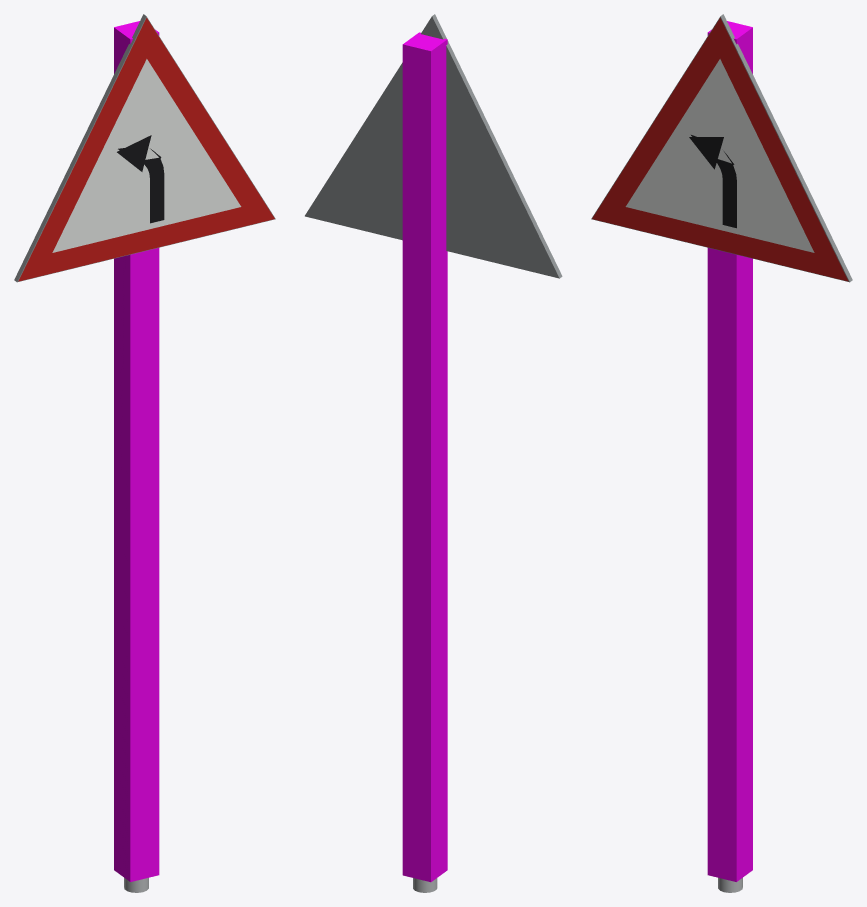
The model's file is EN_Sign_1_11_2_CurveLeft.fbx.
3 renders of one model, left to right at view 1: azimuth 30°, elevation 25°; view 2: azimuth 150°, elevation 25°; view 3: azimuth 330°, elevation 25°, orthographic.
Visible parts, largest first — view 1: EN_Sign_1_11_2_CurveLeft_Mesh, COL_Post; view 2: COL_Post, EN_Sign_1_11_2_CurveLeft_Mesh; view 3: EN_Sign_1_11_2_CurveLeft_Mesh, COL_Post.
Boxes of the visible parts, left/top/right/bottom form: EN_Sign_1_11_2_CurveLeft_Mesh: left=14, top=14, right=275, bottom=892; COL_Post: left=114, top=21, right=159, bottom=881; COL_Post: left=402, top=32, right=447, bottom=882; EN_Sign_1_11_2_CurveLeft_Mesh: left=305, top=14, right=562, bottom=892; EN_Sign_1_11_2_CurveLeft_Mesh: left=591, top=14, right=852, bottom=892; COL_Post: left=707, top=21, right=752, bottom=881.
Bounding box in the file's own units: 0.9 × 2.92 × 0.1148.
